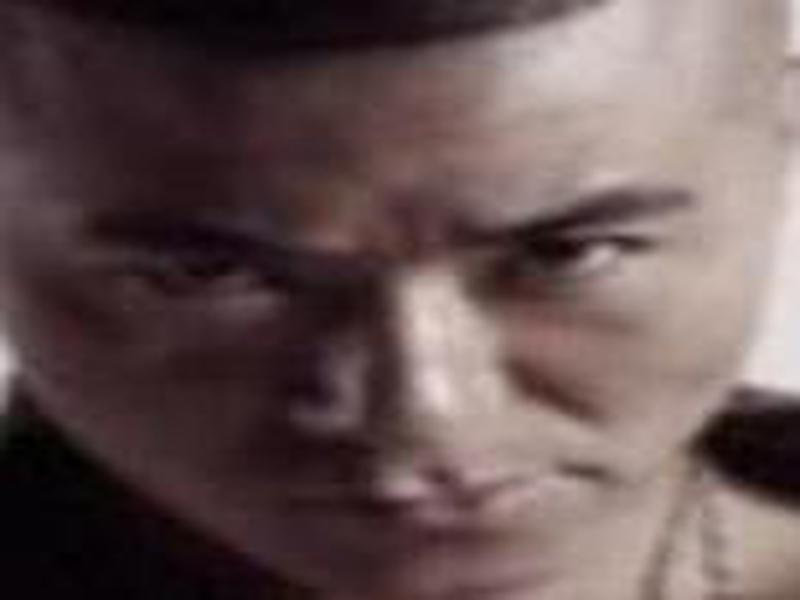without_mask: (4, 10, 785, 595)
